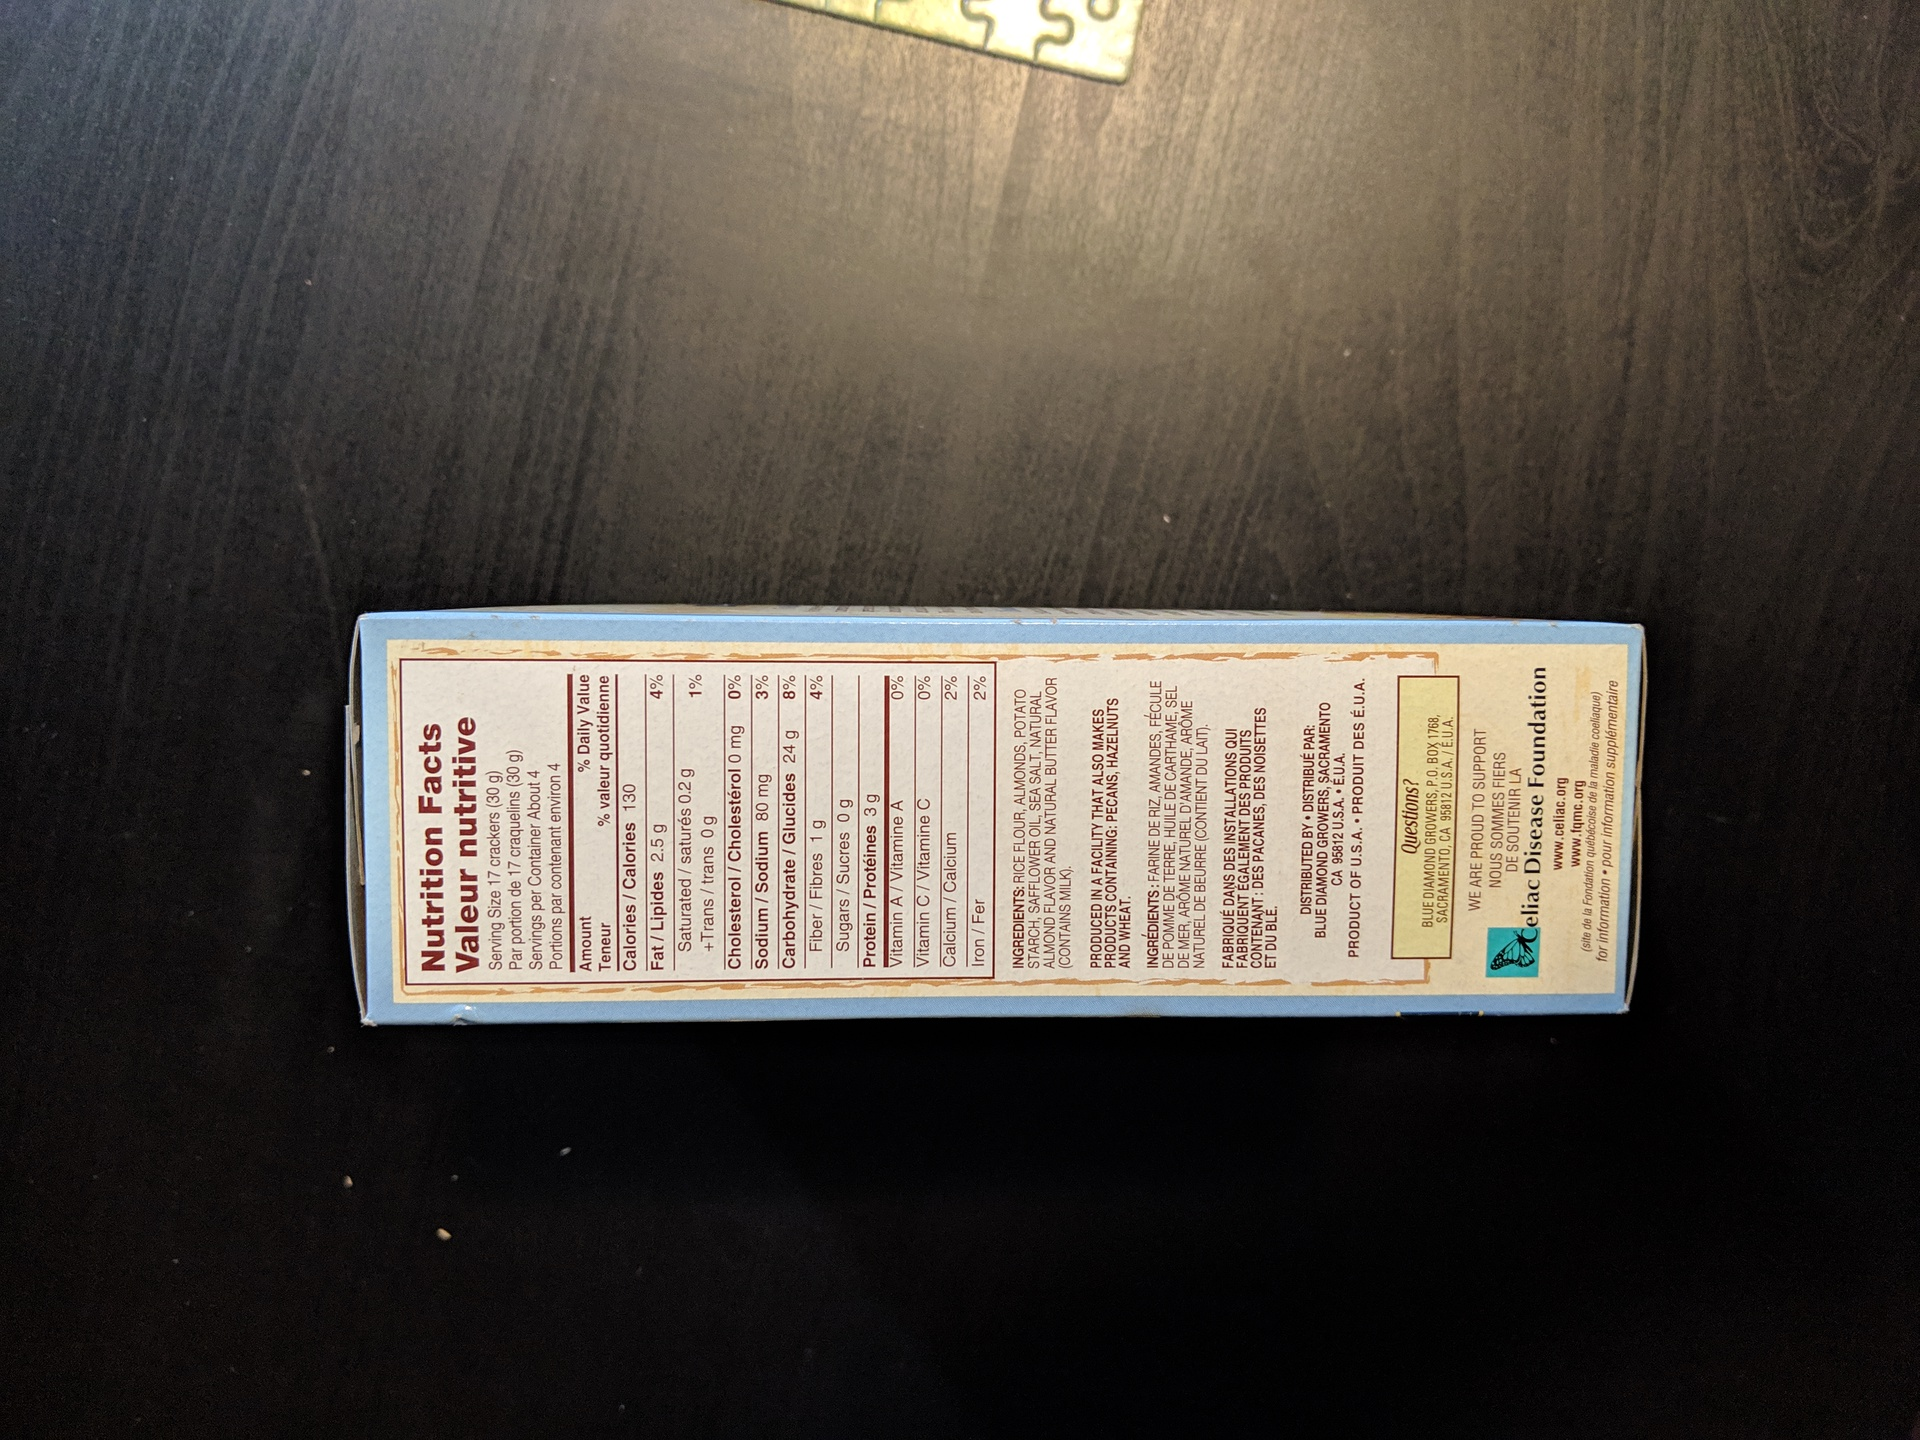blue_diamond_nut_thins_almond_seasalt: (343, 607, 1640, 1029)
